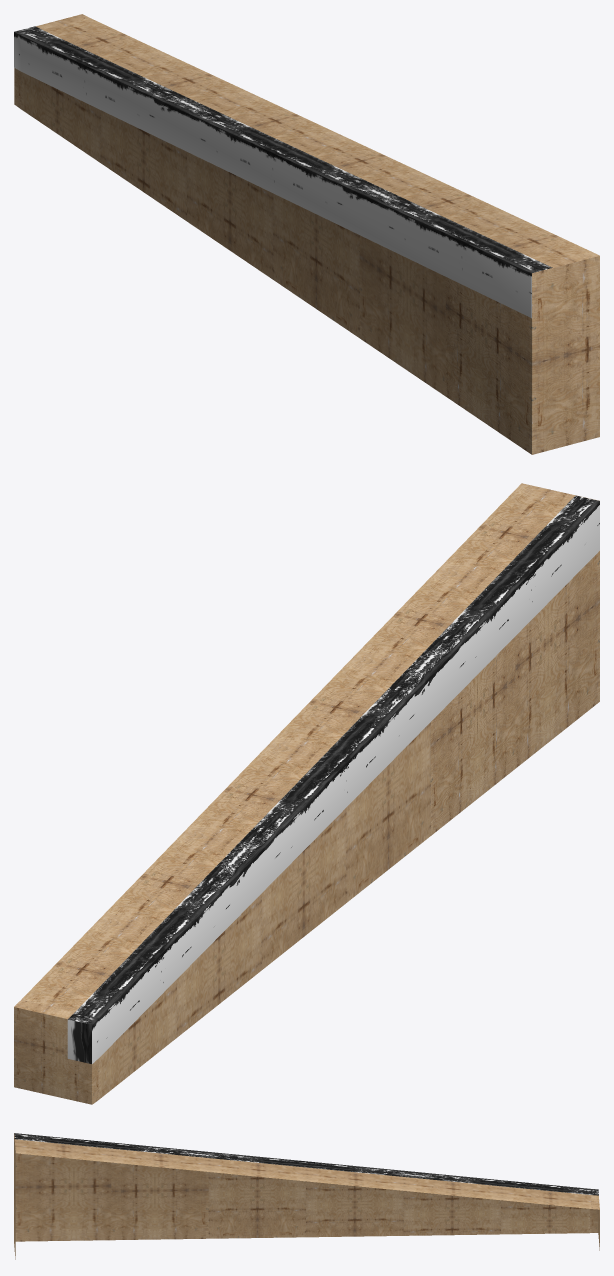
File: boxB.fbx
3 views of the same model, one above another, from view 1: azimuth 30°, elevation 25°; view 2: azimuth 150°, elevation 25°; view 3: azimuth 270°, elevation 25° (orthographic). The views are drawn at different scales.
Visible parts, largest first — view 1: boxB, boxBdecalc; view 2: boxB, boxBdecalc; view 3: boxB, boxBdecalc.
Part boxes in pixels (x1,y1,x2,y2): boxB: [14, 14, 599, 454]; boxBdecalc: [14, 26, 552, 318]; boxB: [14, 483, 599, 1104]; boxBdecalc: [67, 495, 599, 1063]; boxB: [14, 1133, 599, 1259]; boxBdecalc: [14, 1133, 598, 1195].
Bounding box in the file's own units: 143 × 250 × 1223.
